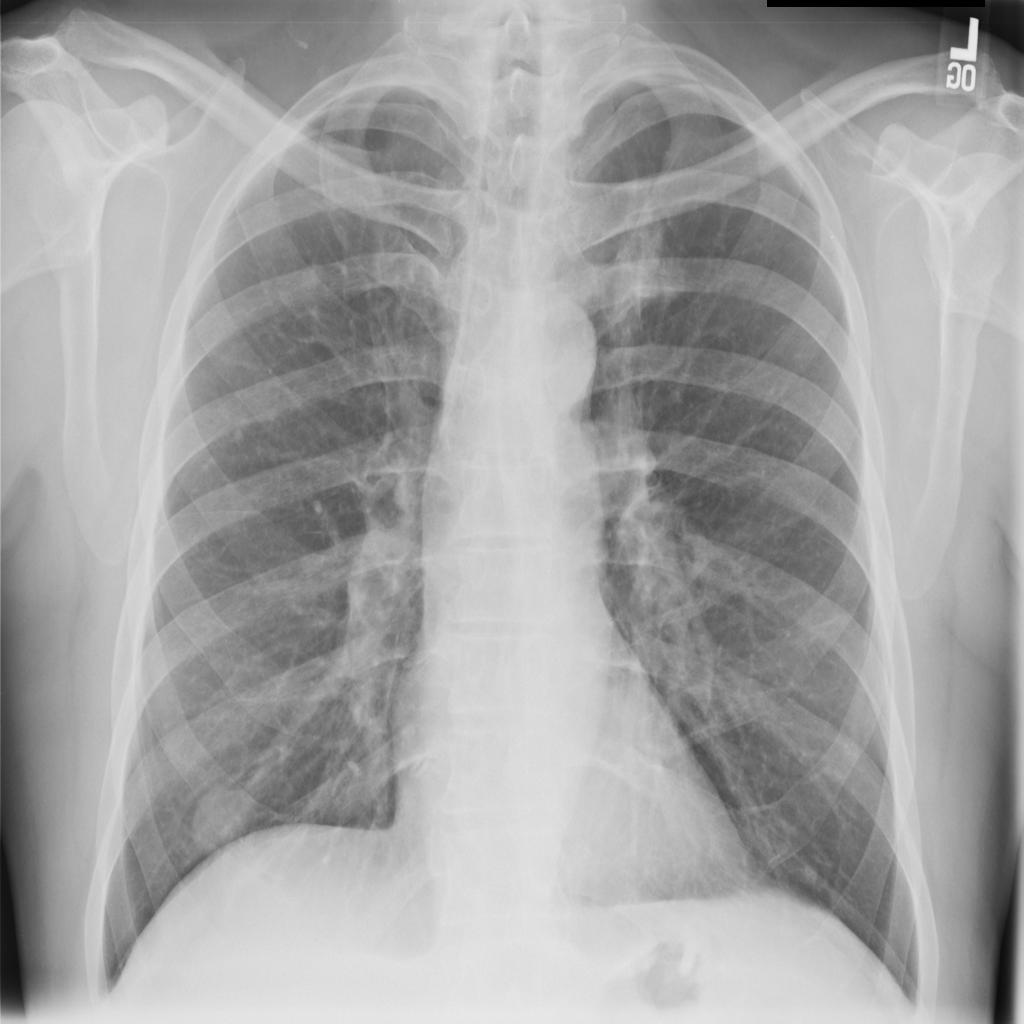nodule: (182, 774, 260, 861), (214, 402, 262, 456), (287, 249, 335, 302), (788, 845, 837, 896)
